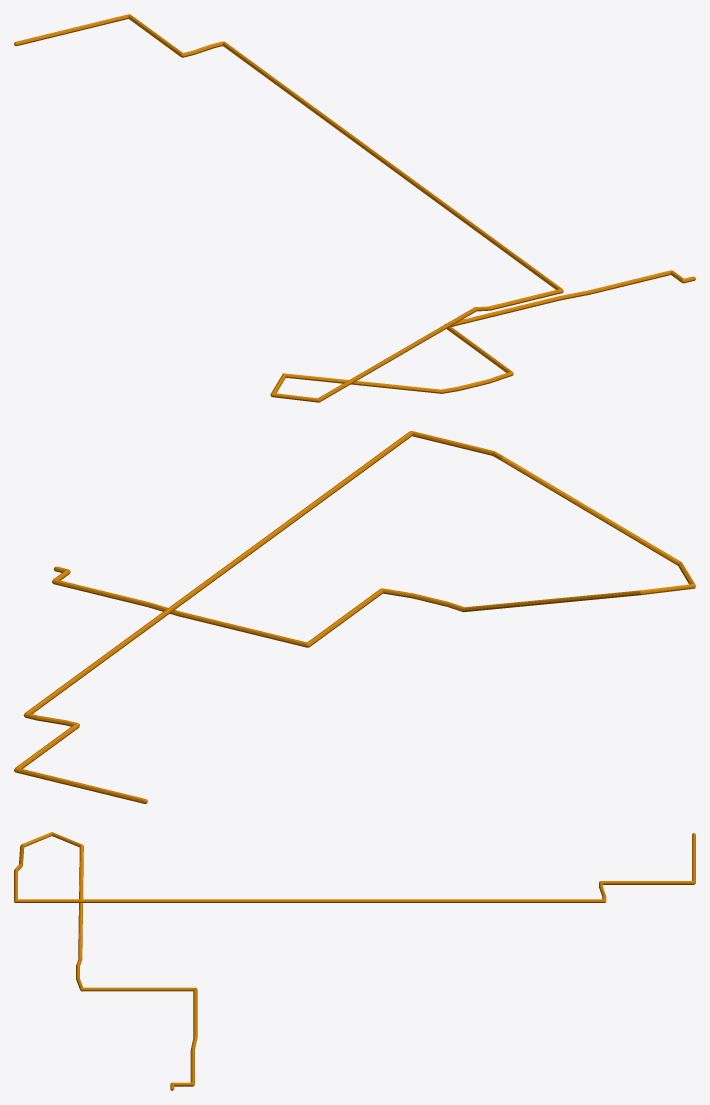
The picture shows the model from 3 angles, top to bottom: view 1: azimuth 30°, elevation 25°; view 2: azimuth 150°, elevation 25°; view 3: azimuth 270°, elevation 25°; orthographic projection. The views are drawn at different scales.
Bounding box in the file's own units: 2406 × 520 × 3304.
